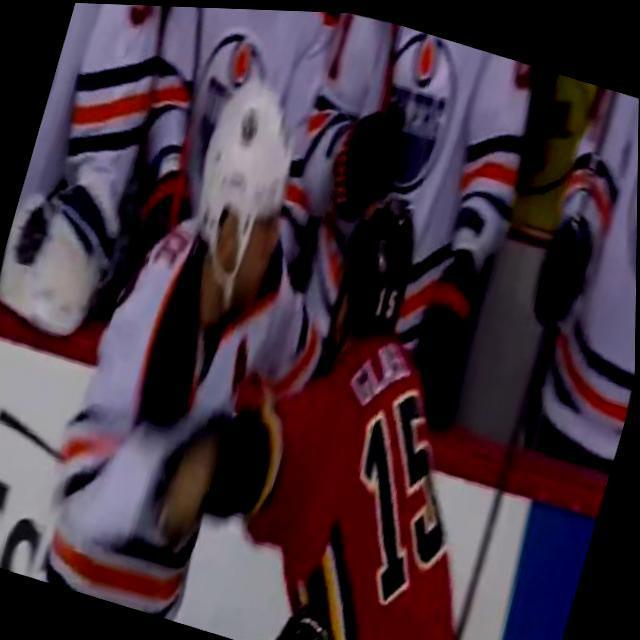fight: (2, 9, 588, 640)
